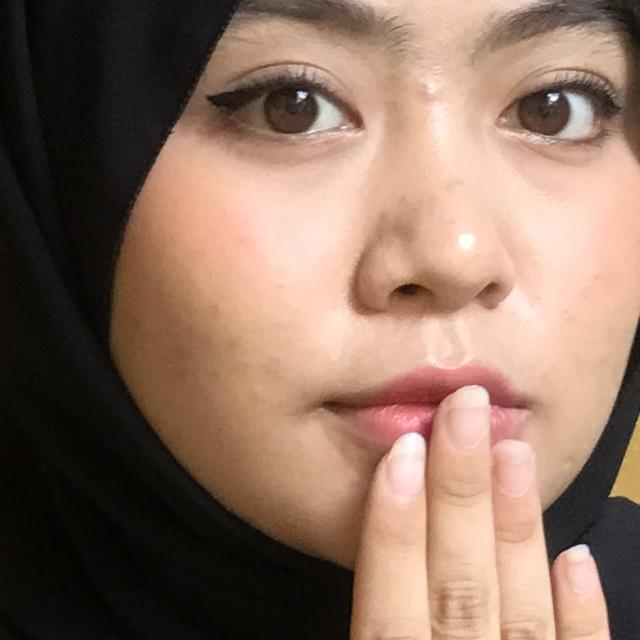ganteng: (170, 336, 640, 640)
